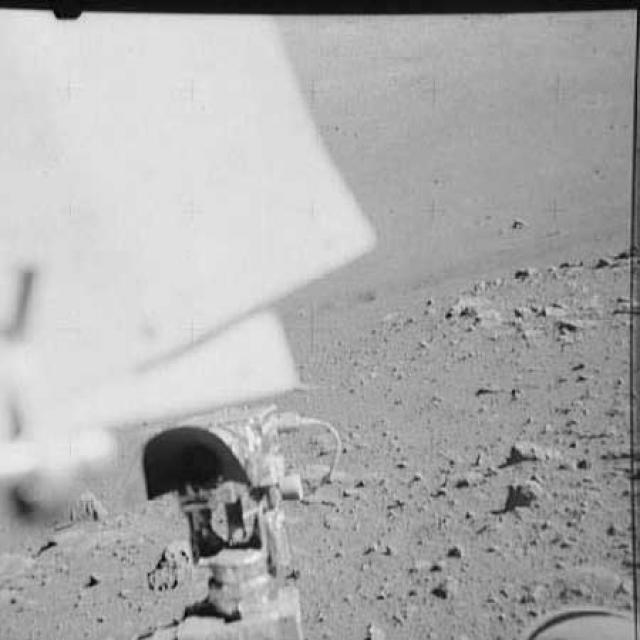artifact: (124, 420, 354, 638), (511, 594, 638, 638)
rock: (494, 432, 560, 466), (61, 485, 107, 529), (496, 474, 548, 511), (516, 292, 572, 318), (442, 291, 484, 317)
